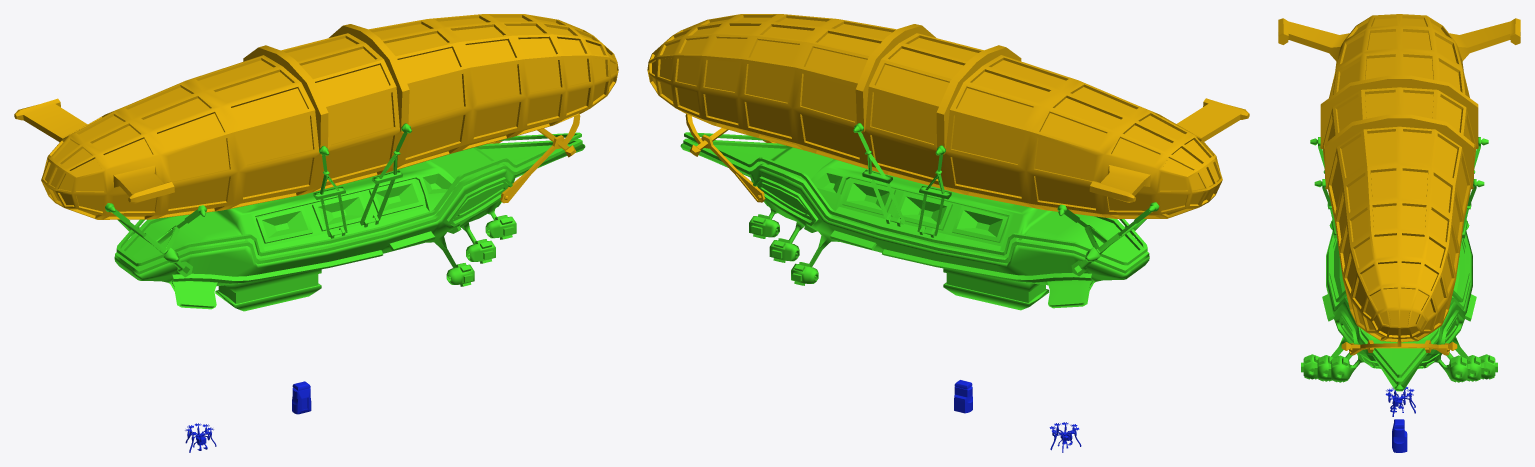
File: PERSONAJES.fbx
3 renders of one model, left to right at view 1: azimuth 30°, elevation 25°; view 2: azimuth 150°, elevation 25°; view 3: azimuth 270°, elevation 25°, orthographic. The views are drawn at different scales.
Parts seen in each view (by area): view 1: baloon, airship; view 2: baloon, airship, twitch drone; view 3: baloon, airship, twitch drone, hgacker drone.
Boxes of the visible parts, bbox=[...] form: baloon: bbox=[14, 14, 618, 219]; airship: bbox=[105, 123, 585, 311]; baloon: bbox=[647, 14, 1249, 218]; airship: bbox=[680, 123, 1159, 310]; twitch drone: bbox=[954, 380, 972, 413]; baloon: bbox=[1278, 14, 1520, 355]; airship: bbox=[1301, 137, 1497, 391]; twitch drone: bbox=[1392, 419, 1407, 452]; hgacker drone: bbox=[1385, 387, 1415, 416].
Bounding box in the file's own units: 2227 × 1397 × 811.
